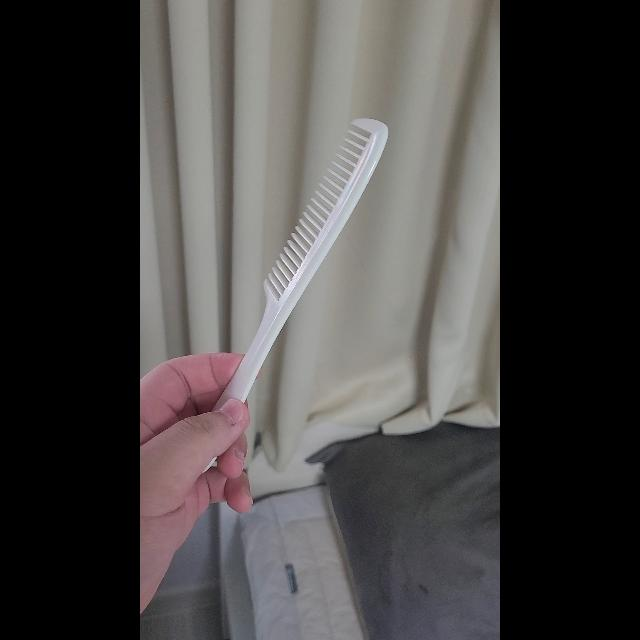COMB: (202, 118, 388, 472)
